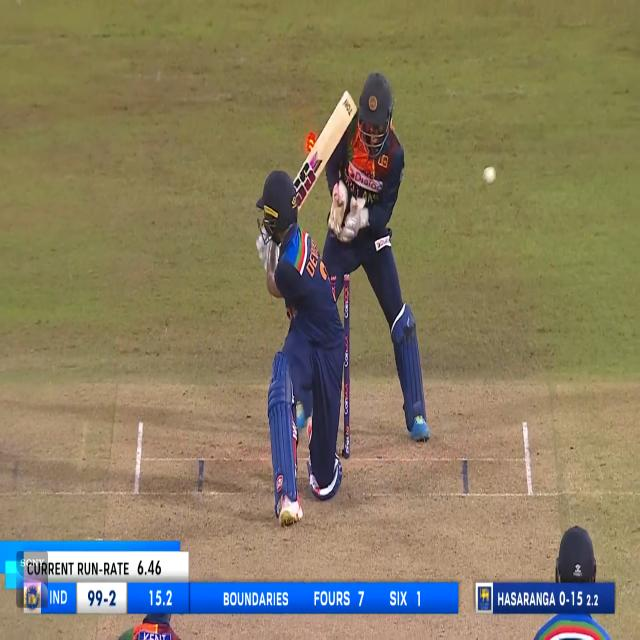ball: (481, 166, 499, 187)
